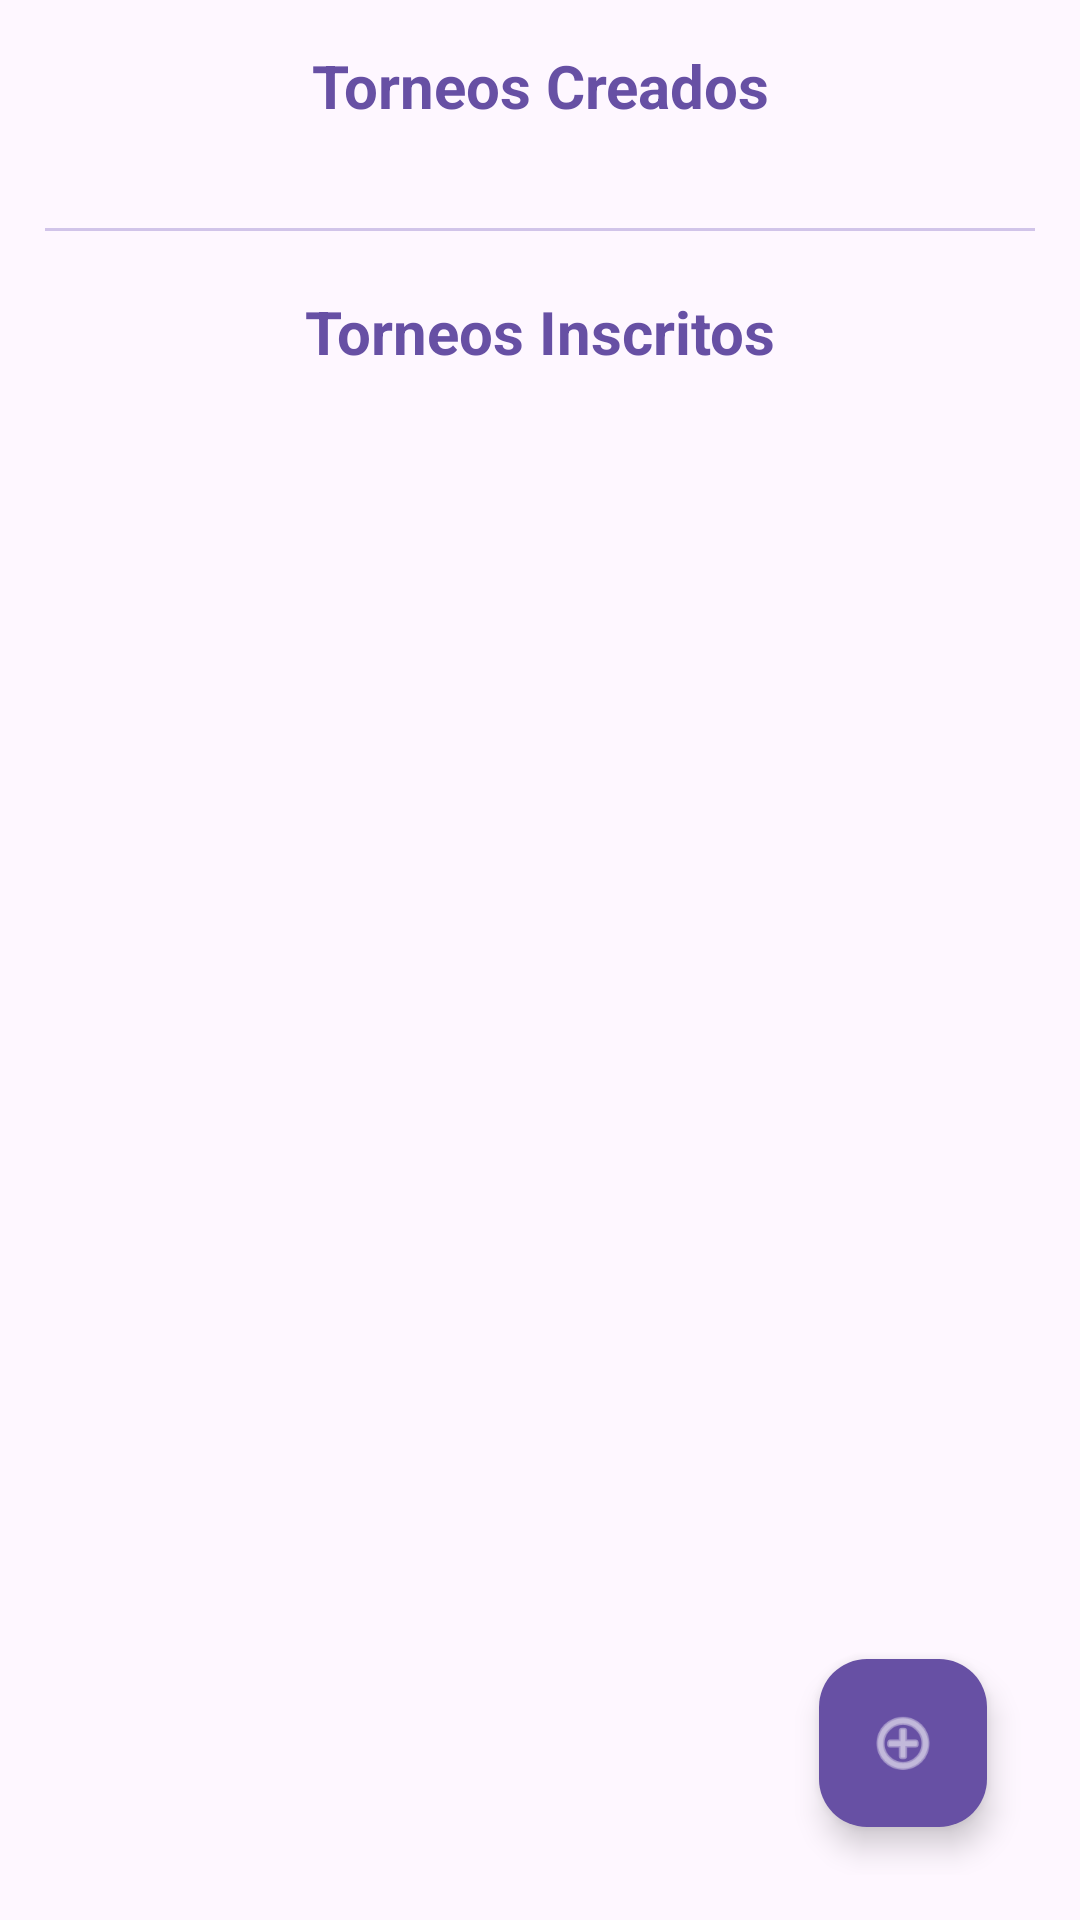

Icons on this 1080w x 1920h Android screen, each with the point to tap as point (x, y):
Crear Torneo: point (903, 1743)
